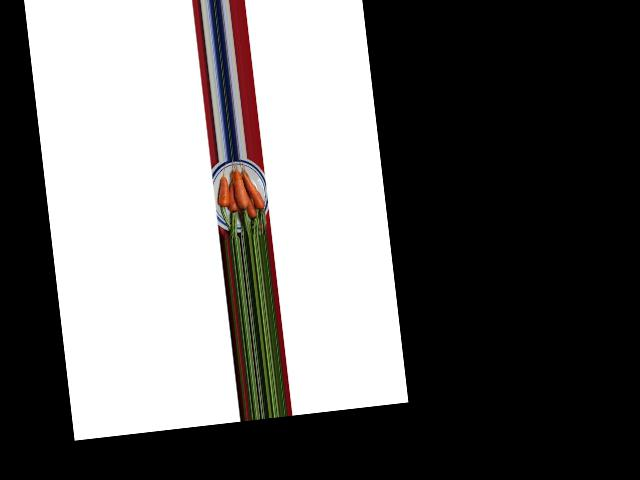carrot: (213, 175, 233, 211)
